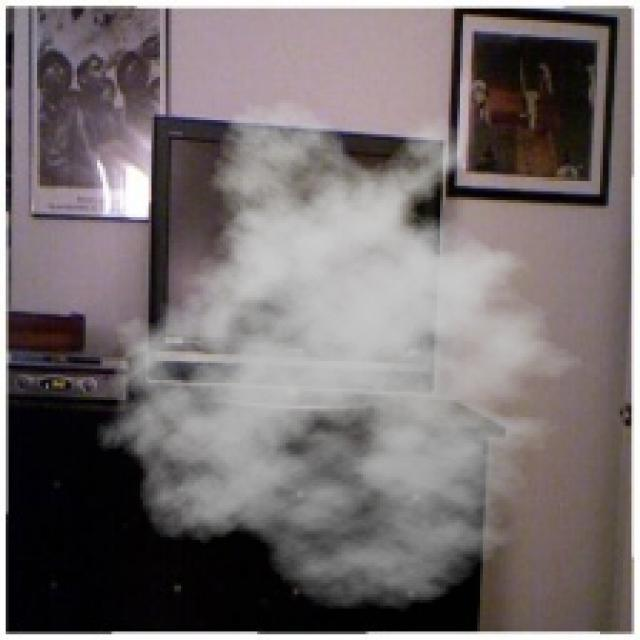Smoke: (83, 97, 606, 612)
